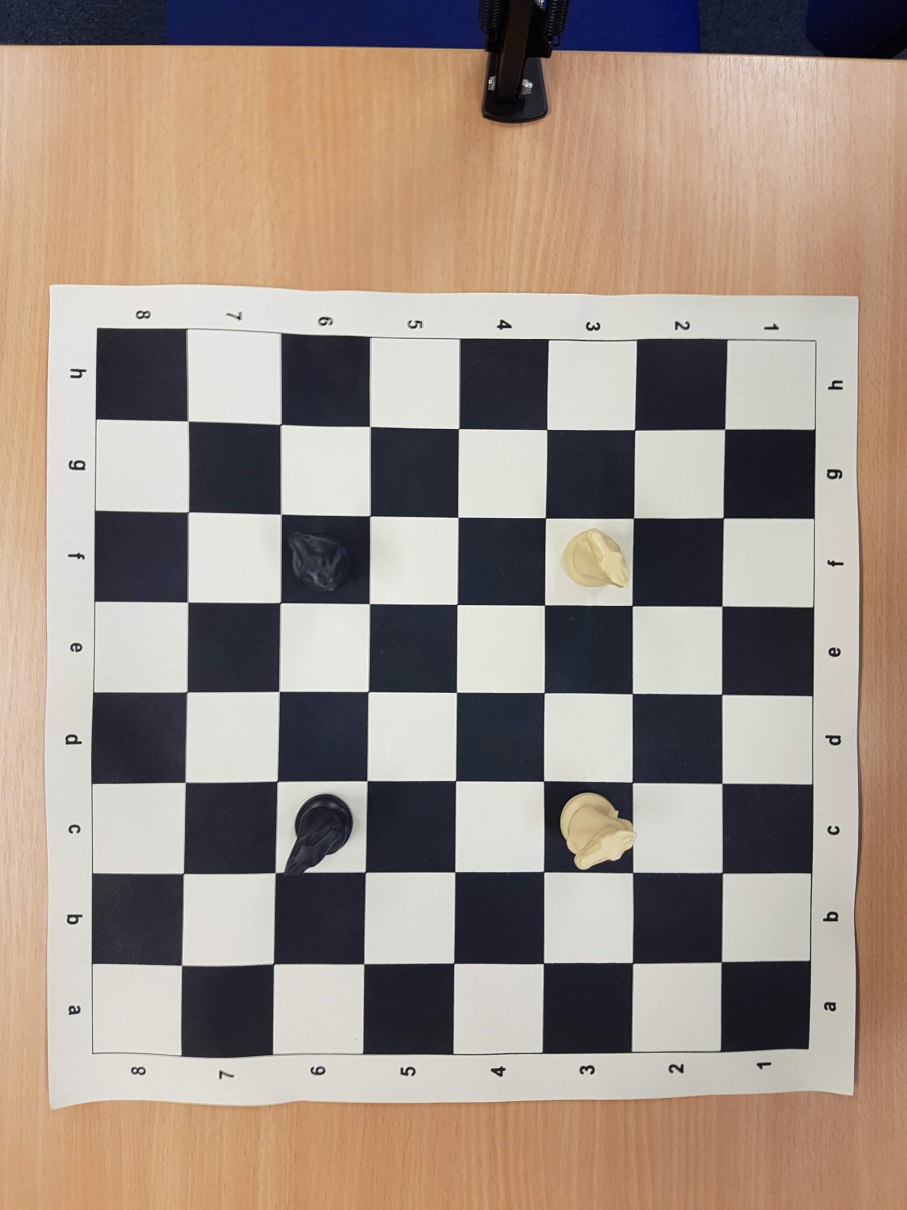chess_knight: (558, 792, 636, 868), (284, 793, 353, 875), (561, 528, 628, 589), (286, 529, 349, 593)
